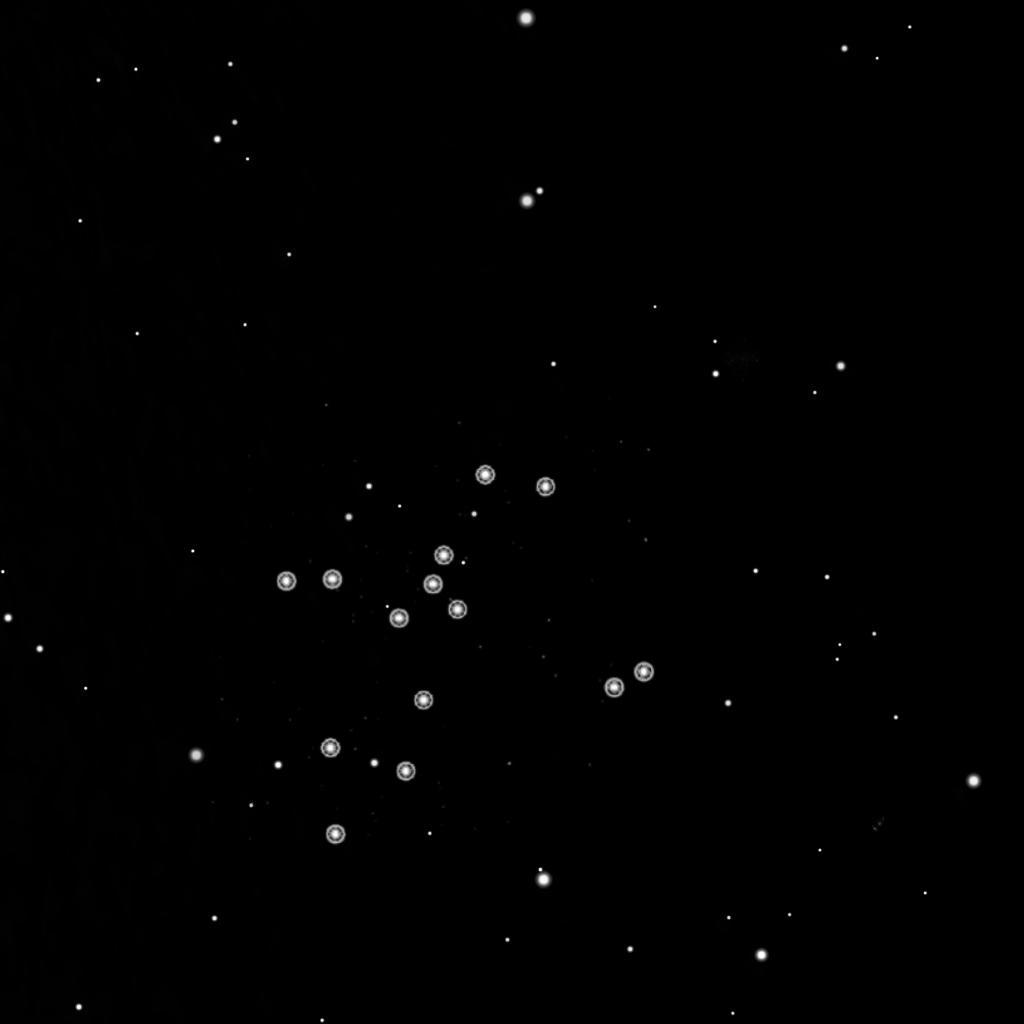canis_major: (384, 459, 558, 637)
